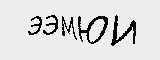И: (112, 14, 142, 46)
М: (59, 15, 78, 39)
Э: (41, 13, 59, 37), (27, 12, 43, 37)
Ю: (76, 11, 109, 44)
